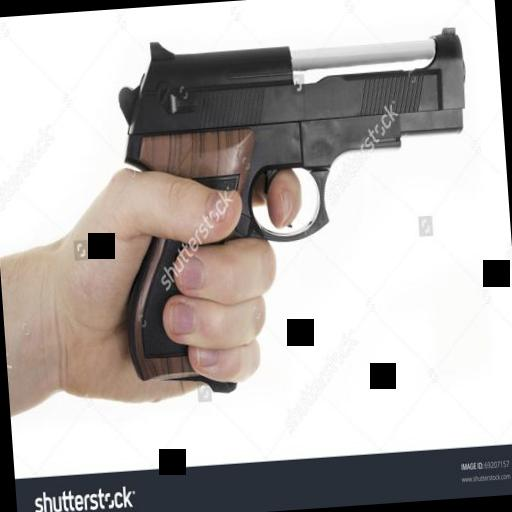Handgun: (103, 17, 485, 399)
